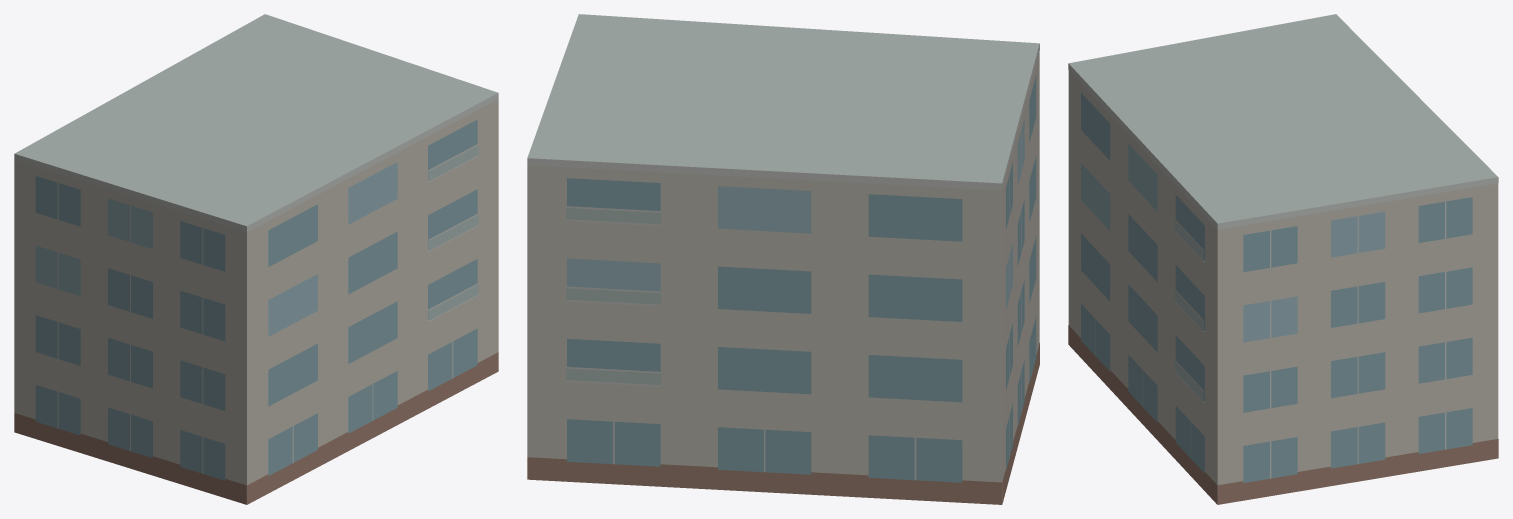
The model's file is survey-upis-32849868.glb.
The picture shows the model from 3 angles, left to right: view 1: azimuth 30°, elevation 25°; view 2: azimuth 150°, elevation 25°; view 3: azimuth 270°, elevation 25°; orthographic projection. The views are drawn at different scales.
Visible parts, largest first — view 1: survey-upis-32849868.tmp; view 2: survey-upis-32849868.tmp; view 3: survey-upis-32849868.tmp.
Boxes of the visible parts, box(x1,y1,x2,y2) form: survey-upis-32849868.tmp: box(14, 14, 498, 504); survey-upis-32849868.tmp: box(527, 14, 1039, 504); survey-upis-32849868.tmp: box(1068, 14, 1498, 504).
Size of the model in its own units: 17.68 by 11.05 by 15.32.
